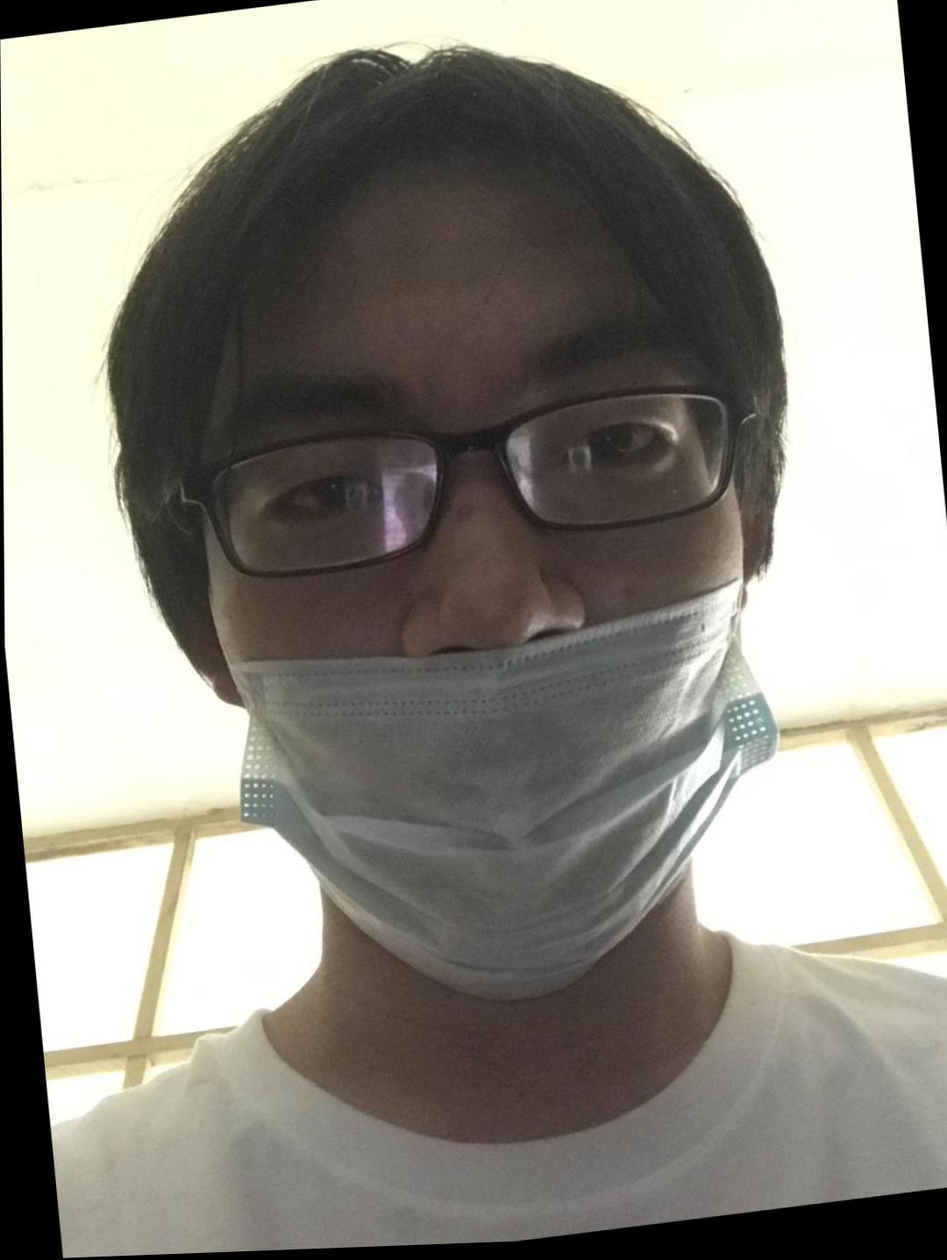WRONG: (189, 271, 776, 1013)
